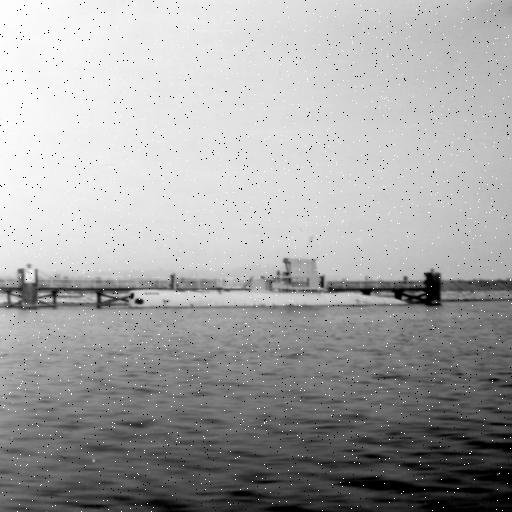submarine: (123, 260, 412, 310)
